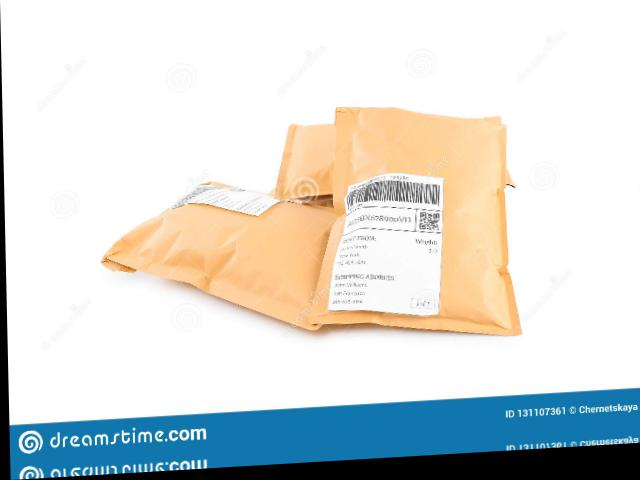label: (324, 173, 445, 317), (172, 186, 282, 217)
package: (309, 106, 523, 335), (102, 180, 335, 332), (273, 122, 339, 199)
